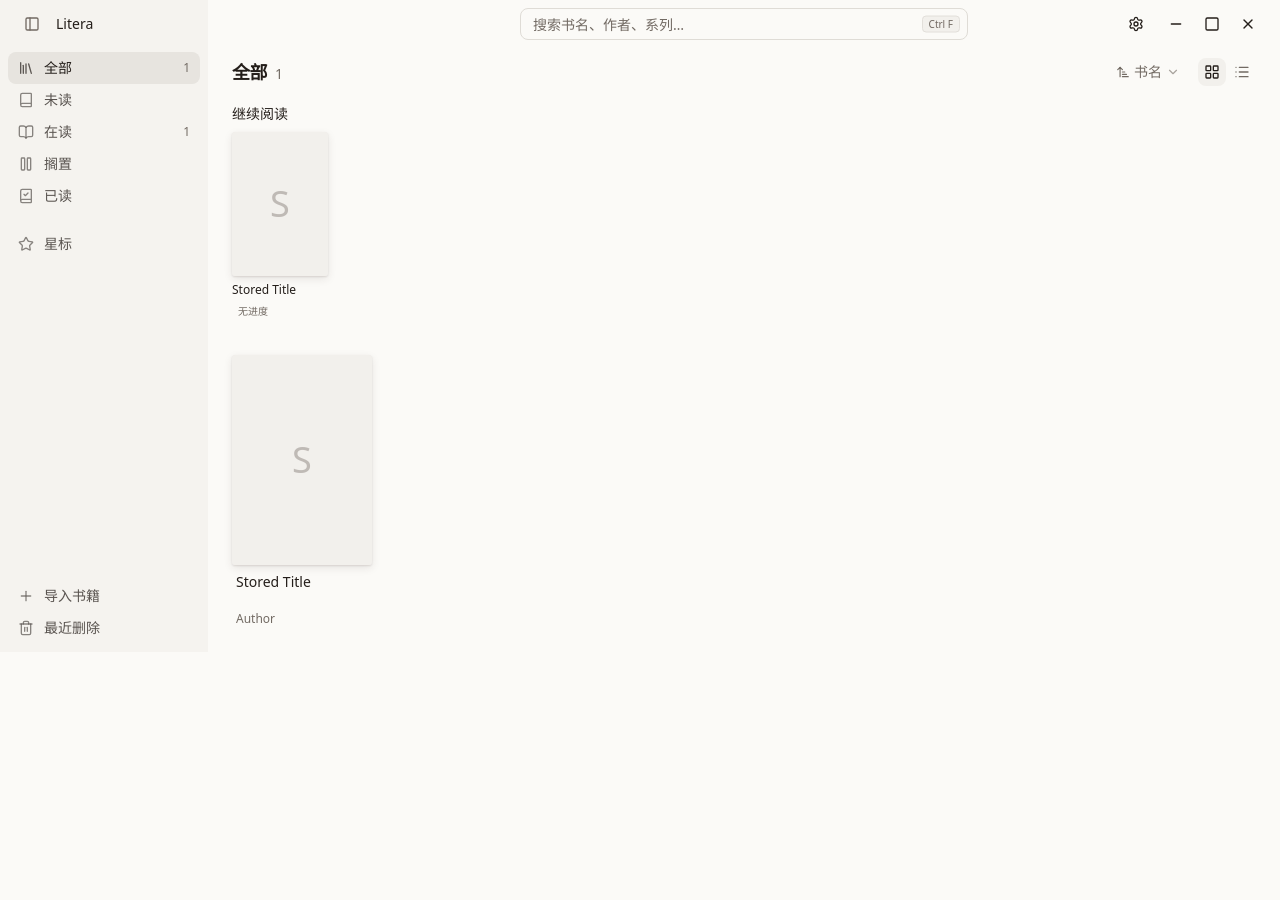
it: LibraryView › hides continue reading in select mode
Check: the heading "继续阅读" is shown, box left=232, top=104, right=288, bottom=123
Step 1. Click the button named "Stored Title" → (302, 460), box left=232, top=355, right=372, bottom=565
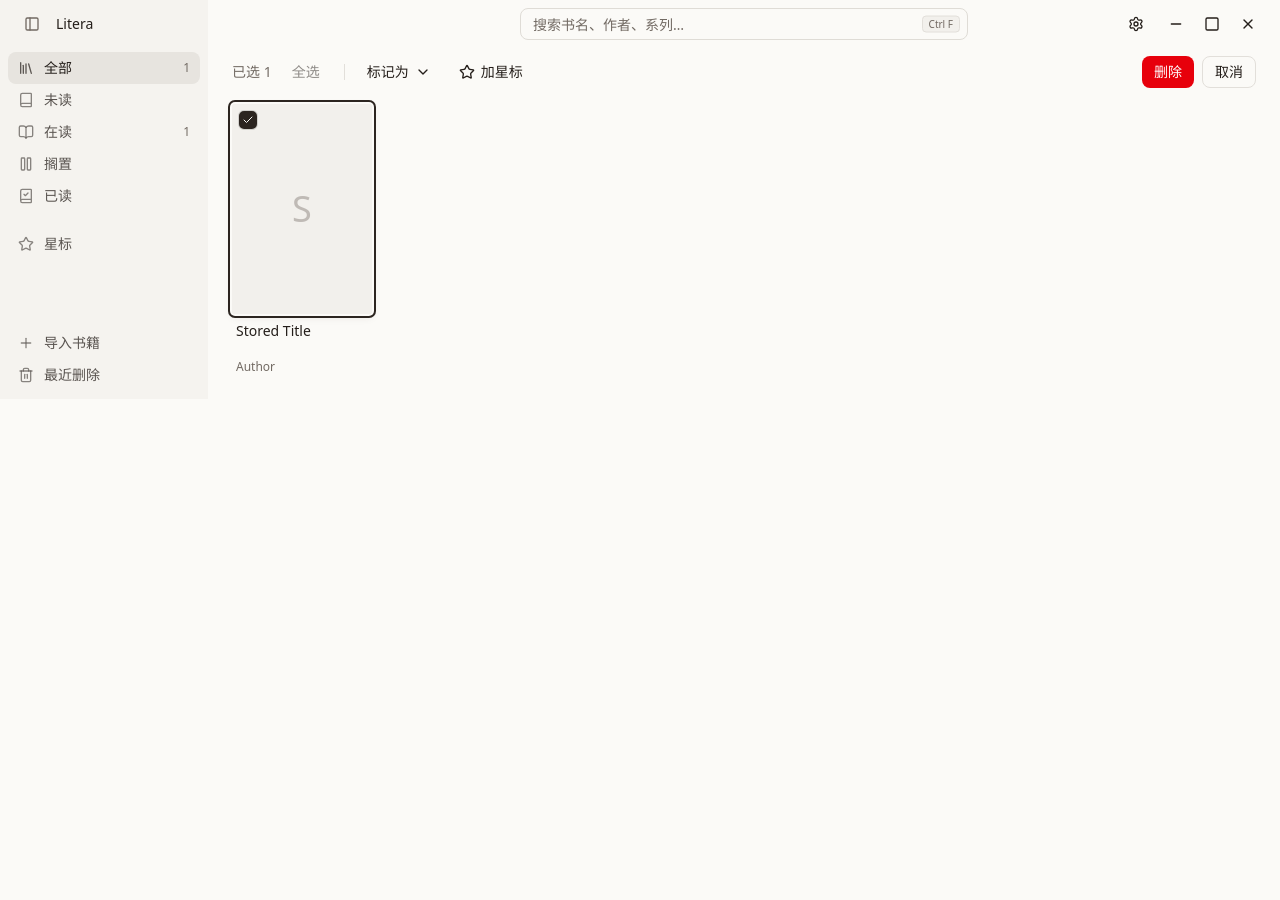
Check: the text "已选 1" is shown, box left=232, top=62, right=272, bottom=82
Check: the heading "继续阅读" is gone
